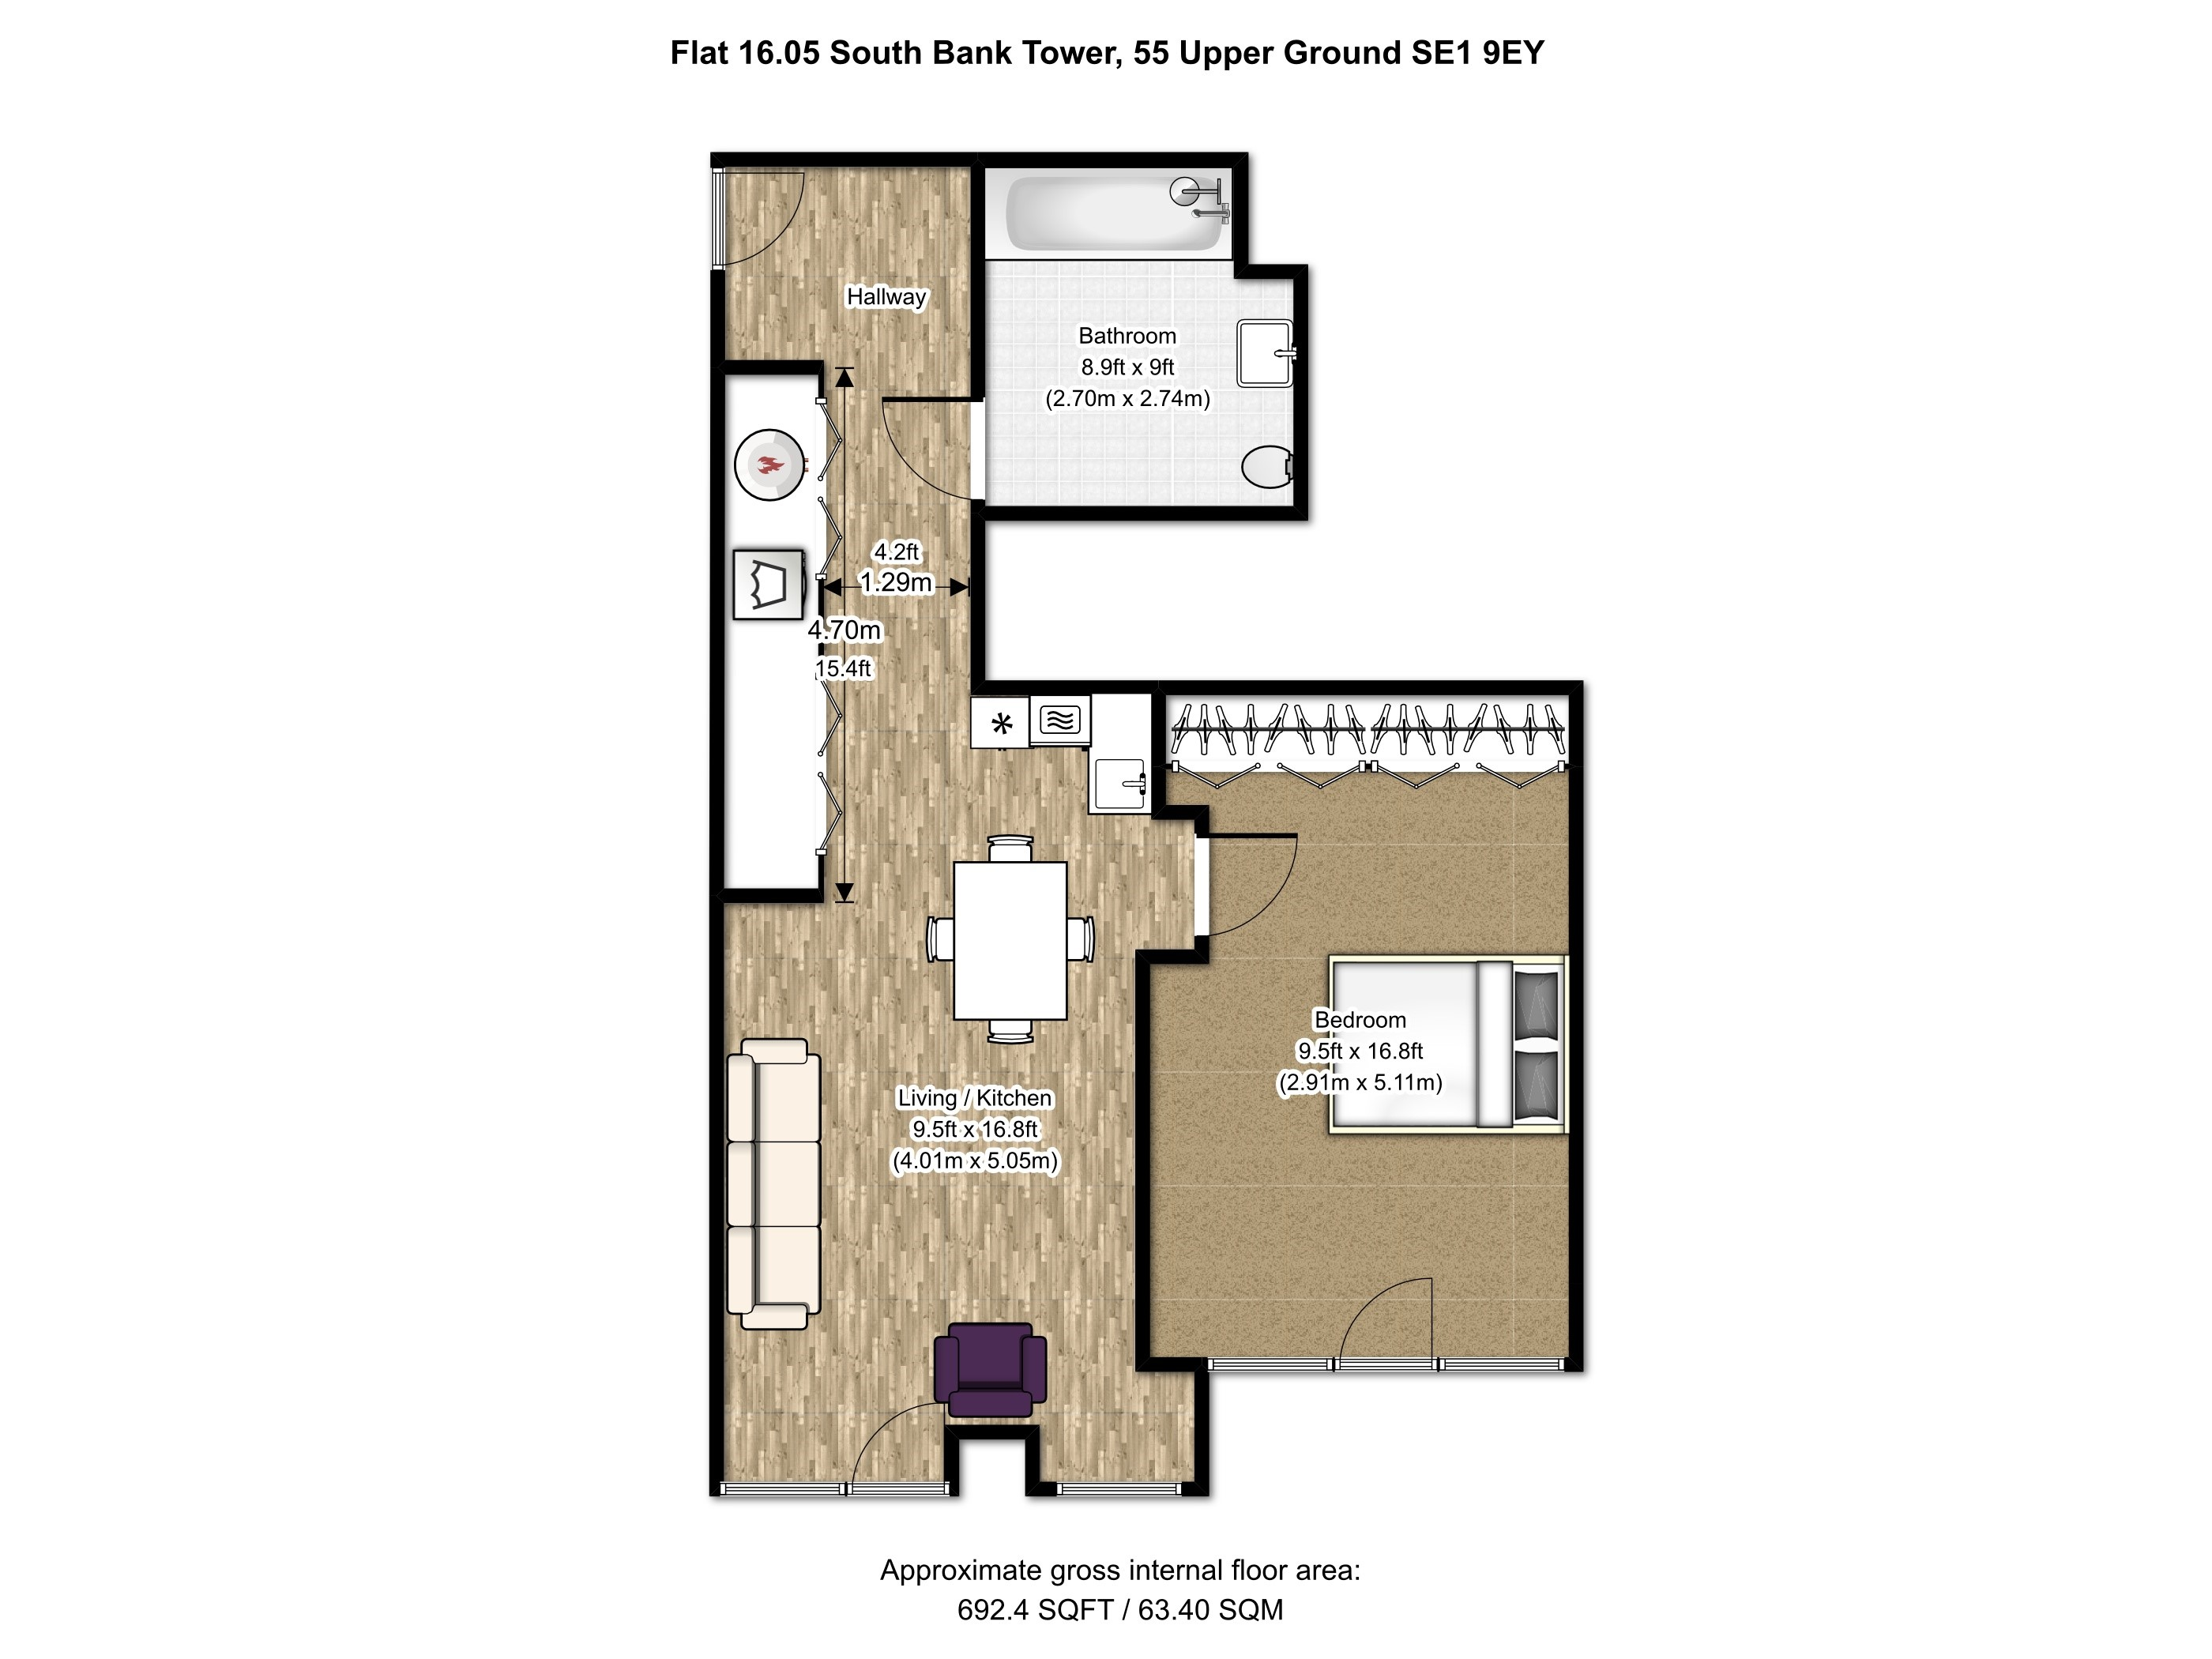window: (718, 1480, 951, 1499), (1054, 1480, 1184, 1499), (1439, 1356, 1566, 1373), (1202, 1356, 1336, 1371)
